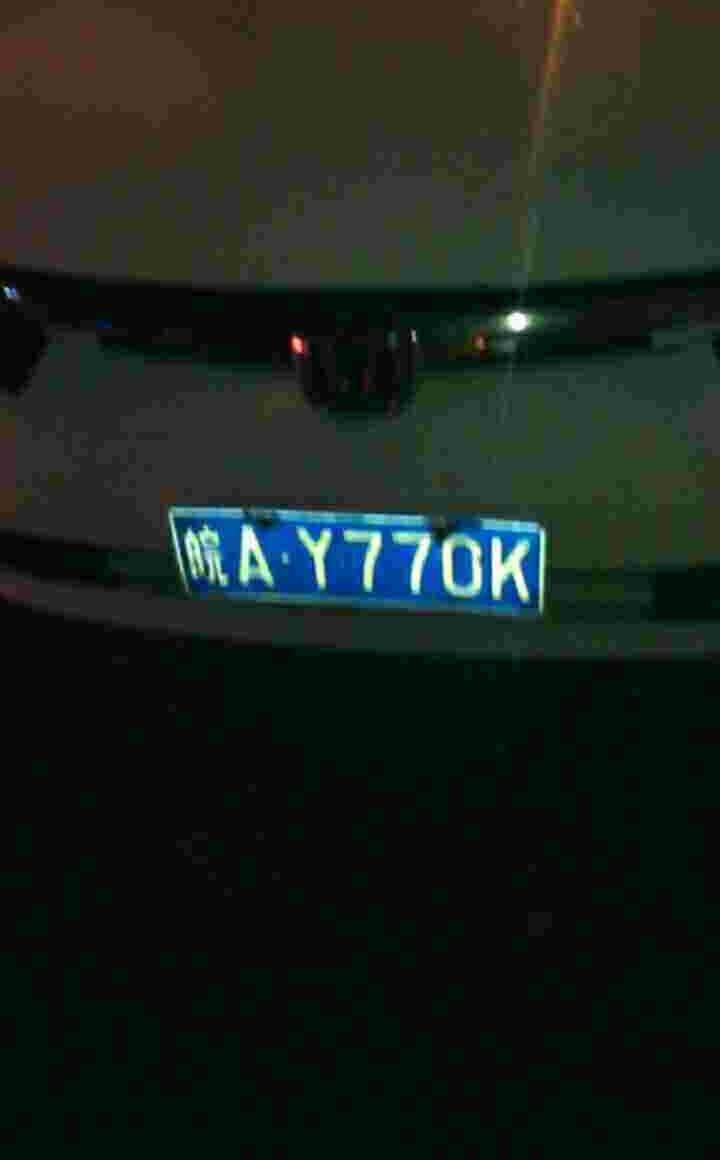license_plate: (176, 505, 549, 619)
